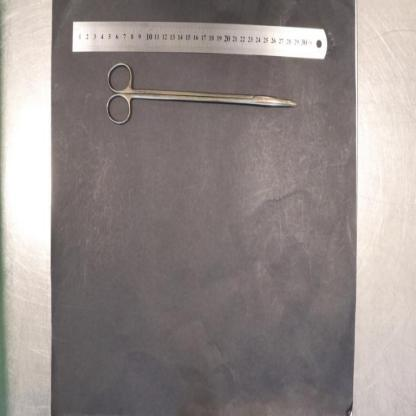9 Metzenbaum Scissors: (105, 61, 297, 127)
